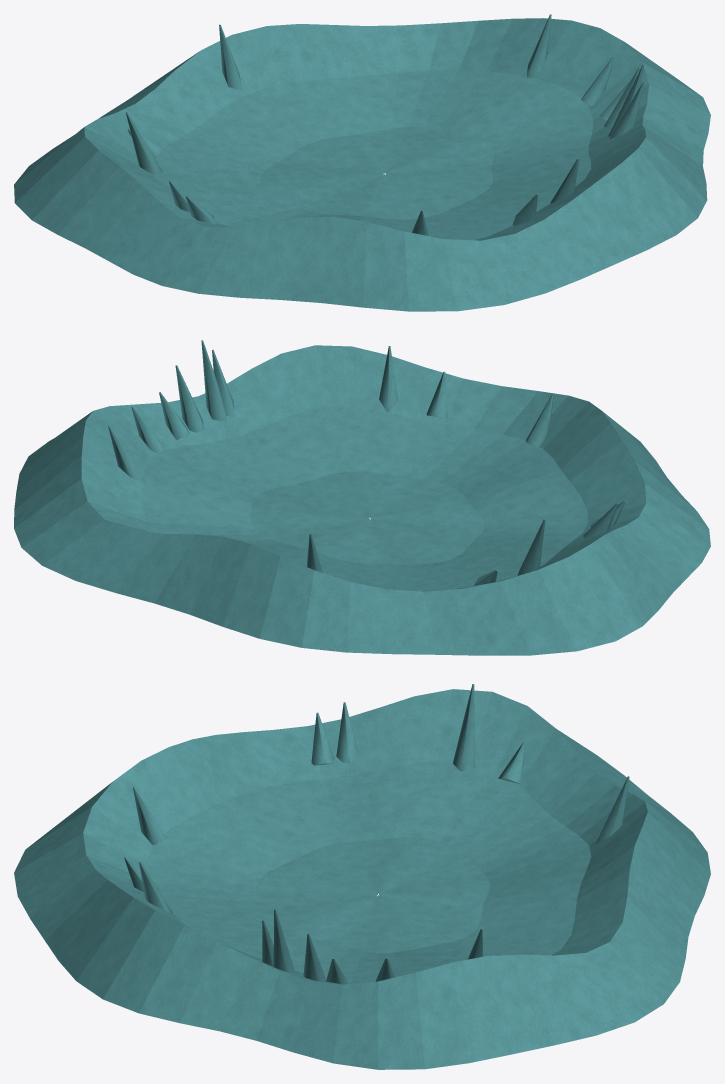
The model's file is GlassCrater.glb.
3 views of the same model, one above another, from view 1: azimuth 30°, elevation 25°; view 2: azimuth 150°, elevation 25°; view 3: azimuth 270°, elevation 25° (orthographic). The views are drawn at different scales.
Visible parts, largest first — view 1: Vitrified crater, Glass shard.009, Glass shard.013, Glass shard.011, Glass shard.002, Glass shard.012; view 2: Vitrified crater, Glass shard.005, Glass shard.004, Glass shard.007, Glass shard.003, Glass shard.009, Glass shard.011, Glass shard, Glass shard.002, Glass shard.010, Glass shard.012; view 3: Vitrified crater, Glass shard.009, Glass shard.003, Glass shard.006, Glass shard.005, Glass shard.013, Glass shard.008, Glass shard.004, Glass shard.007.
Part boxes in pixels (box(x1,y1,x2,y2)): Vitrified crater: box(14, 18, 710, 311); Glass shard.009: box(125, 112, 162, 174); Glass shard.013: box(219, 24, 242, 90); Glass shard.011: box(527, 14, 551, 77); Glass shard.002: box(609, 82, 644, 139); Glass shard.012: box(581, 57, 613, 105); Vitrified crater: box(14, 345, 710, 655); Glass shard.005: box(201, 340, 226, 421); Glass shard.004: box(175, 365, 204, 432); Glass shard.007: box(379, 346, 398, 412); Glass shard.003: box(526, 394, 553, 446); Glass shard.009: box(517, 518, 545, 575); Glass shard.011: box(108, 426, 144, 481); Glass shard: box(159, 392, 189, 439); Glass shard.002: box(212, 349, 234, 417); Glass shard.010: box(426, 371, 447, 418); Glass shard.012: box(131, 406, 164, 453); Vitrified crater: box(14, 689, 710, 1069); Glass shard.009: box(453, 684, 475, 771); Glass shard.003: box(133, 787, 167, 845); Glass shard.006: box(336, 702, 357, 762); Glass shard.005: box(273, 908, 295, 973); Glass shard.013: box(595, 776, 629, 843); Glass shard.008: box(311, 712, 334, 765); Glass shard.004: box(303, 933, 326, 981); Glass shard.007: box(139, 861, 172, 913).
Size of the model in its own units: 5.16 by 0.7244 by 4.42.
Materials: 1 (1 with a texture image).
